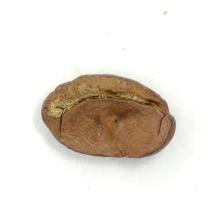NG: (48, 74, 164, 134)
